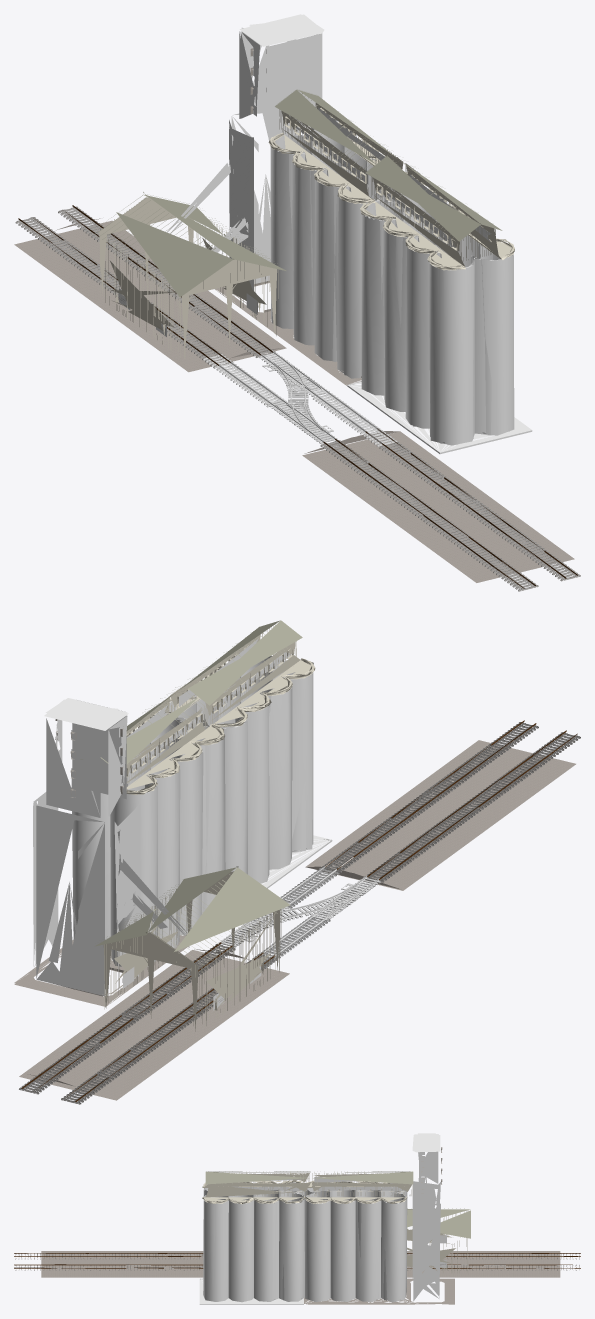
The model's file is elevator_game.glb.
The picture shows the model from 3 angles, top to bottom: view 1: azimuth 30°, elevation 25°; view 2: azimuth 150°, elevation 25°; view 3: azimuth 270°, elevation 25°; orthographic projection. The views are drawn at different scales.
Parts seen in each view (by area): view 1: Object_4; view 2: Object_4; view 3: Object_4.
Part boxes in pixels (x1=…): Object_4: x1=14, y1=14, x2=580, y2=591; Object_4: x1=14, y1=620, x2=580, y2=1104; Object_4: x1=14, y1=1133, x2=580, y2=1304.
Bounding box in the file's own units: 21.29 × 27.26 × 92.36.
29 materials, 3 textured.
